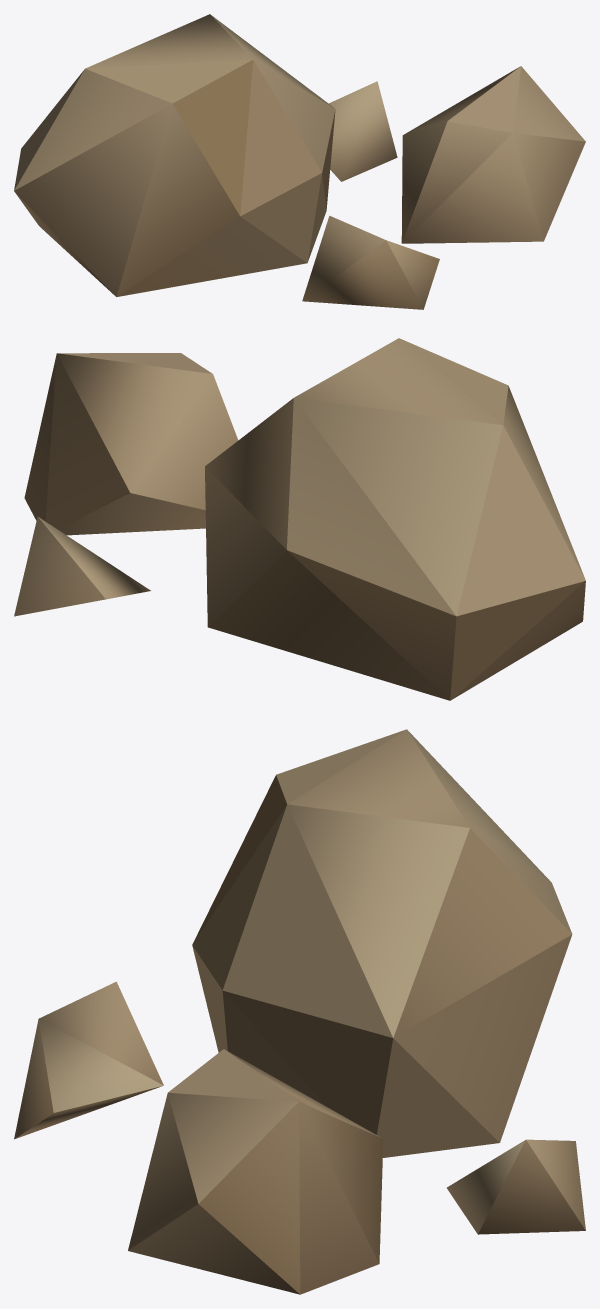
File: r04-far.glb
3 renders of one model, top to bottom at view 1: azimuth 30°, elevation 25°; view 2: azimuth 150°, elevation 25°; view 3: azimuth 270°, elevation 25°, orthographic. The views are drawn at different scales.
Bounding box in the file's own units: 1.5 × 0.5725 × 1.05.
